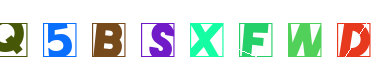5: (33, 0, 113, 80)
B: (120, 0, 200, 80)
D: (299, 0, 379, 80)
F: (164, 0, 244, 80)
Q: (18, 0, 98, 80)
S: (140, 0, 220, 80)
W: (241, 0, 321, 80)
X: (149, 0, 229, 80)
